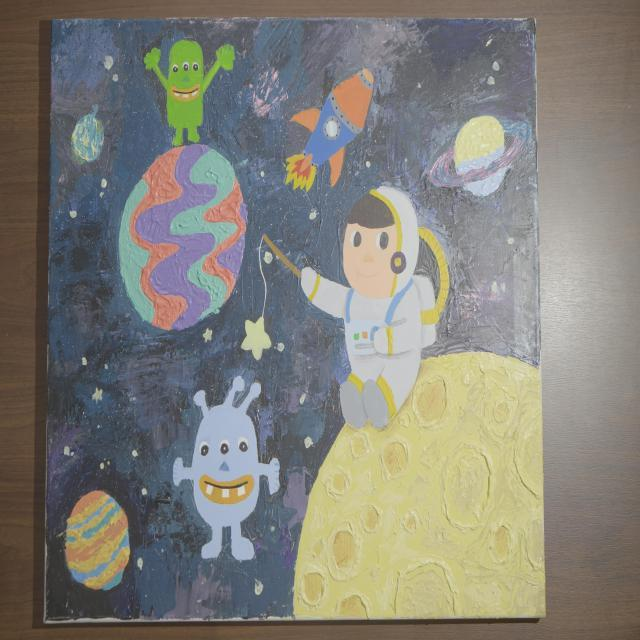painting: (45, 19, 545, 621)
